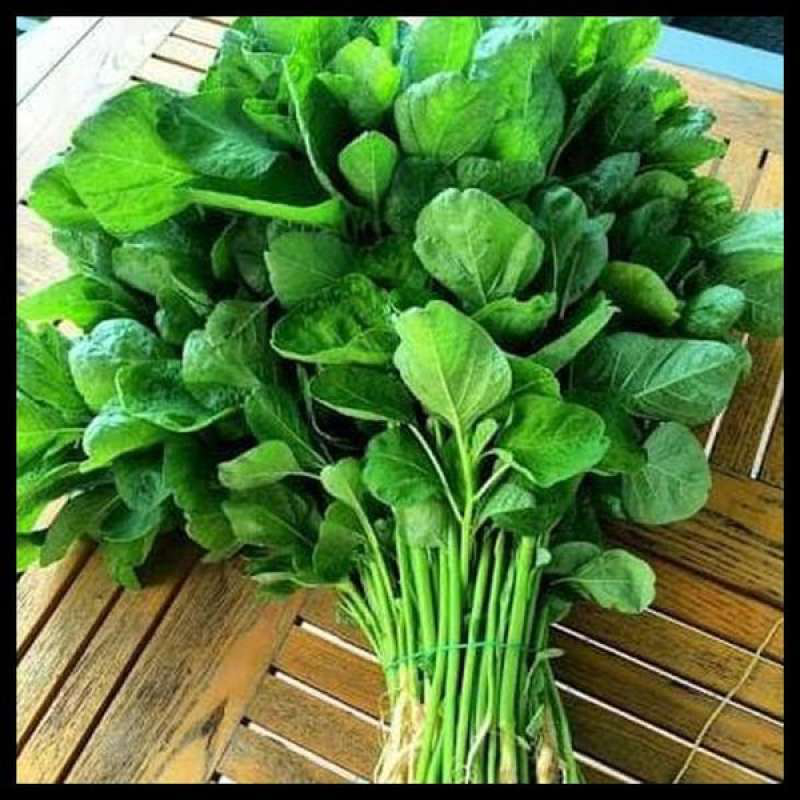Bayam: (88, 9, 744, 763)
